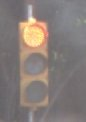Red: (14, 18, 55, 107)
